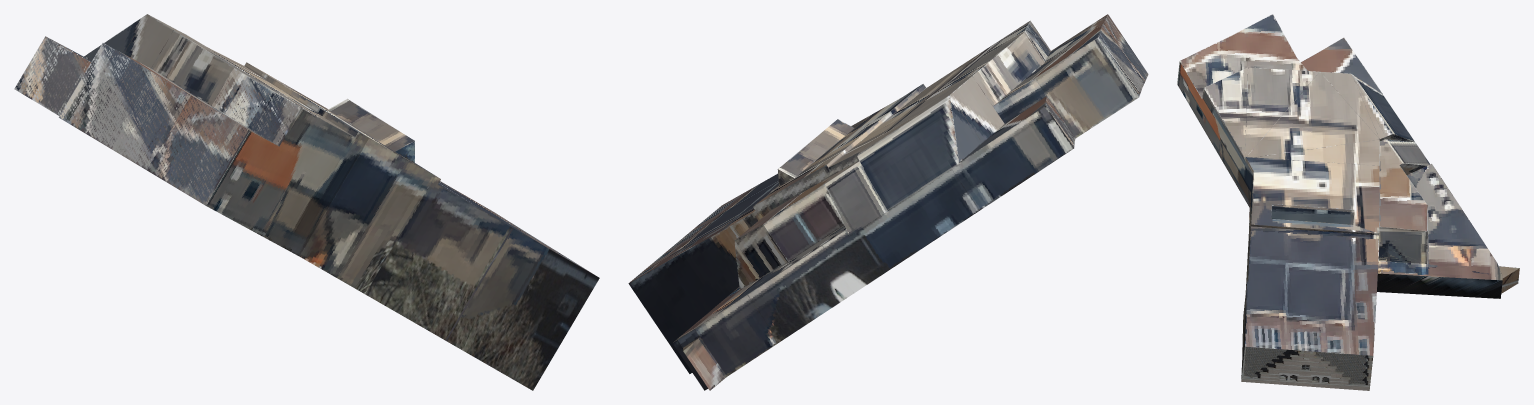
The picture shows the model from 3 angles, left to right: view 1: azimuth 30°, elevation 25°; view 2: azimuth 150°, elevation 25°; view 3: azimuth 270°, elevation 25°; orthographic projection. The views are drawn at different scales.
Visible parts, largest first — view 1: BAG_0599100010058326 (×6); view 2: BAG_0599100010058326 (×6); view 3: BAG_0599100010058326 (×6).
Part boxes in pixels (x1,y1,x2,y2): BAG_0599100010058326 (×6): [14, 14, 599, 390]; BAG_0599100010058326 (×6): [628, 14, 1148, 390]; BAG_0599100010058326 (×6): [1177, 14, 1519, 390].
Bounding box in the file's own units: 31.31 × 25.28 × 30.17.
Materials: 1 (1 with a texture image).
